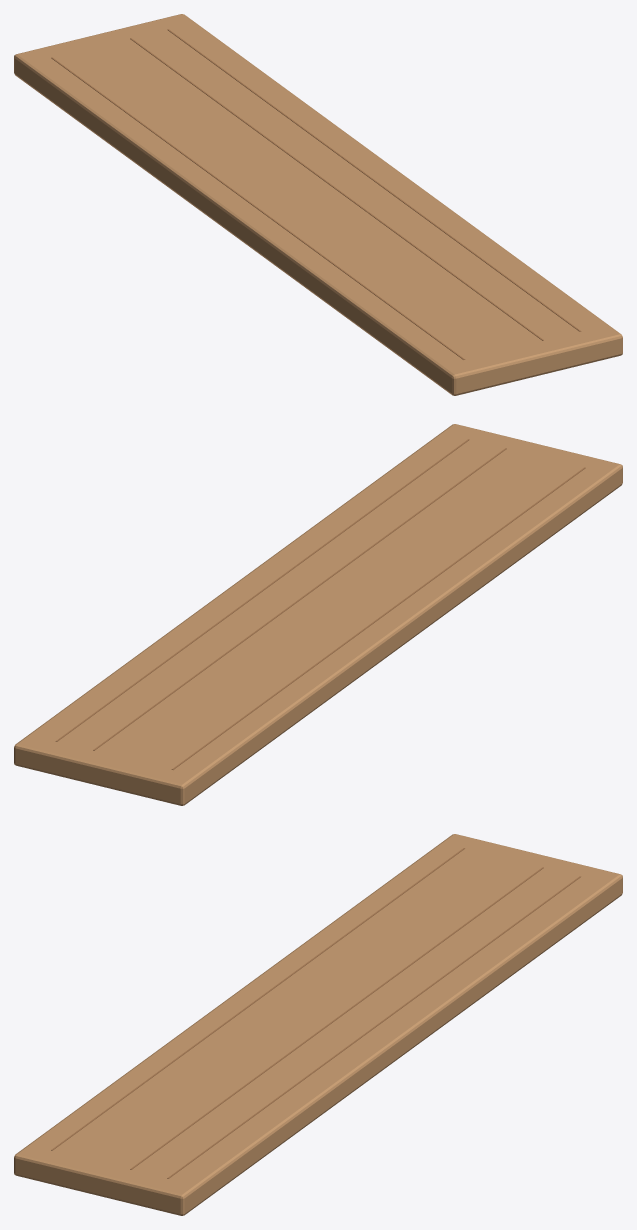
File: floor_plank.glb
3 renders of one model, top to bottom at view 1: azimuth 30°, elevation 25°; view 2: azimuth 150°, elevation 25°; view 3: azimuth 330°, elevation 25°, orthographic.
Parts seen in each view (by area): view 1: floor_plank_Mesh; view 2: floor_plank_Mesh; view 3: floor_plank_Mesh.
Part boxes in pixels (left/top/right/bottom): floor_plank_Mesh: left=14, top=14, right=622, bottom=395; floor_plank_Mesh: left=14, top=424, right=622, bottom=805; floor_plank_Mesh: left=14, top=834, right=622, bottom=1215.
Size of the model in its own units: 0.368 by 0.045 by 1.64.
